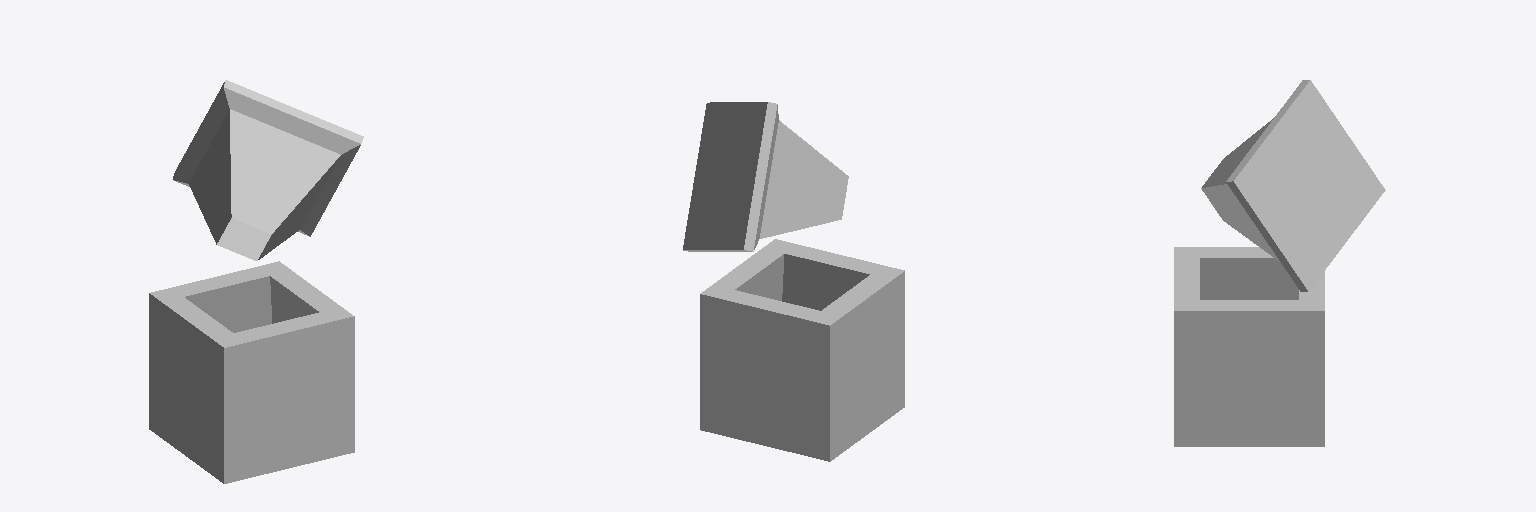
Rendered from AnimatedBox_000055.obj.
The picture shows the model from 3 angles: view 1: azimuth 30°, elevation 25°; view 2: azimuth 150°, elevation 25°; view 3: azimuth 270°, elevation 25°; orthographic projection.
Visible parts, largest first — view 1: Cube, Cube.001; view 2: Cube, Cube.001; view 3: Cube, Cube.001.
Part boxes in pixels (left/top/right/bottom): Cube: left=149, top=261, right=354, bottom=483; Cube.001: left=173, top=80, right=363, bottom=260; Cube: left=700, top=239, right=904, bottom=461; Cube.001: left=683, top=102, right=848, bottom=251; Cube: left=1174, top=247, right=1324, bottom=446; Cube.001: left=1201, top=80, right=1385, bottom=291.
Size of the model in its own units: 2.6 by 4.96 by 2.81.